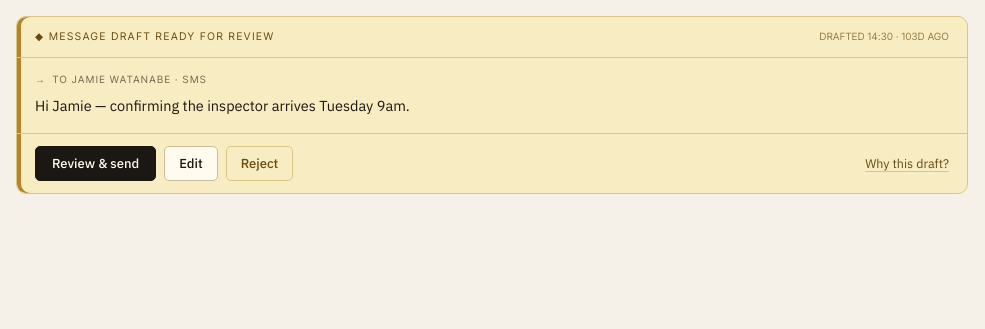
Test: DraftHeroCard › edit flow › should mount a textarea pre-filled with the draft body when Edit is clicked
The width and height of the screenshot is (985, 329).
Click the button with test id "pending-draft-edit" at (191, 163), box 164,146 -> 218,181
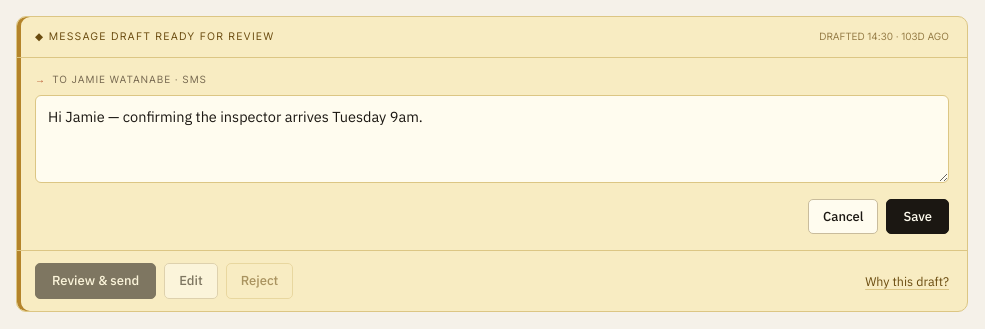
expect the text box with test id "pending-draft-edit-textarea" holds "Hi Jamie — confirming the inspector arrives Tuesday 9am.": met, box 35,95 -> 949,183
